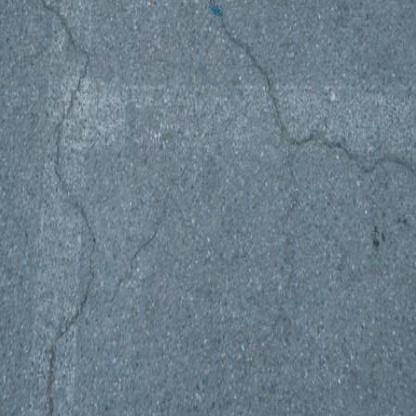Cracks: (209, 0, 416, 200), (14, 0, 110, 416), (109, 135, 217, 324), (254, 166, 326, 369)
